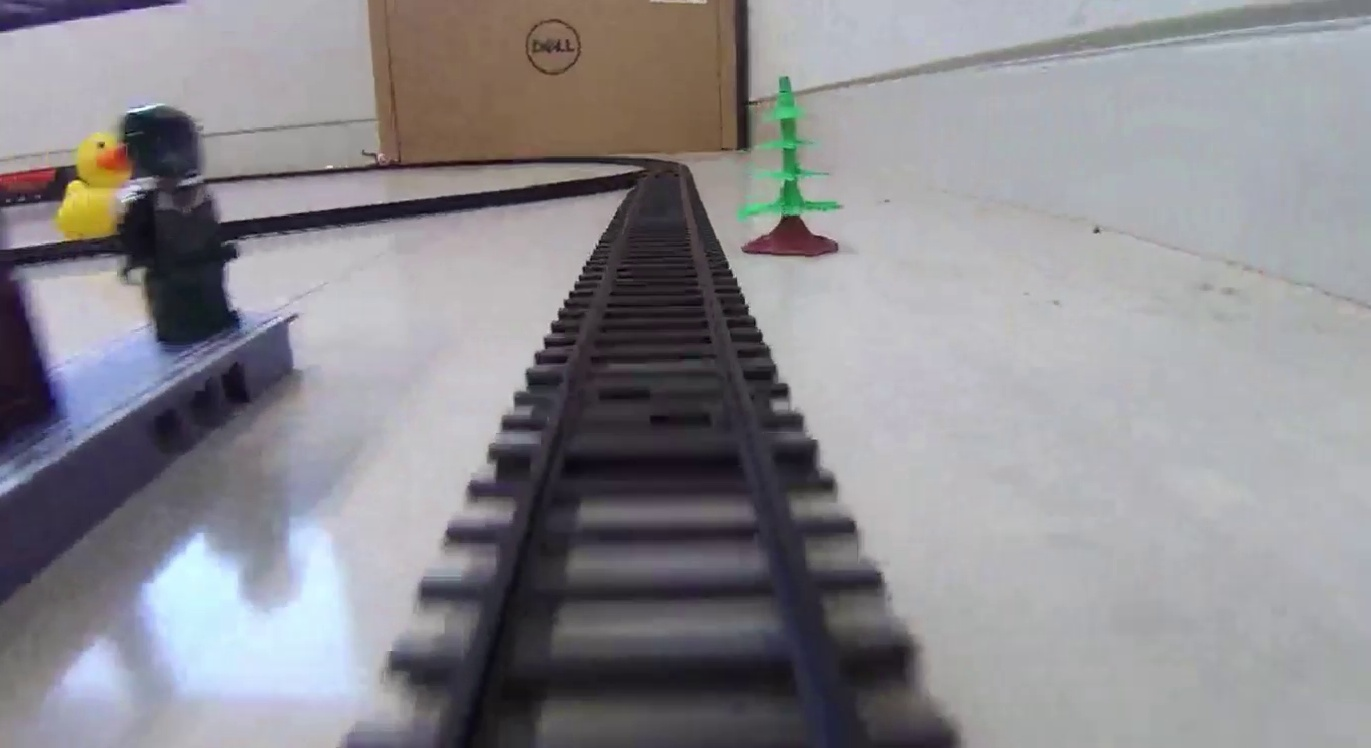people: (120, 105, 239, 337)
tree: (739, 76, 843, 259)
